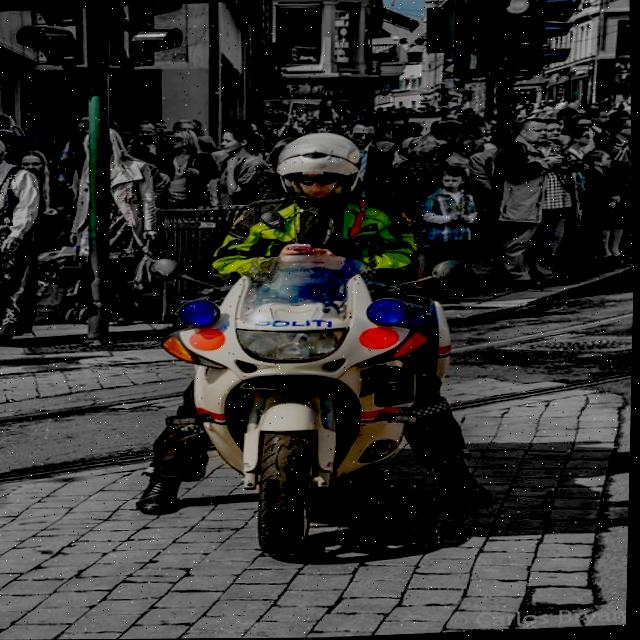motorcycle: (140, 234, 469, 564)
